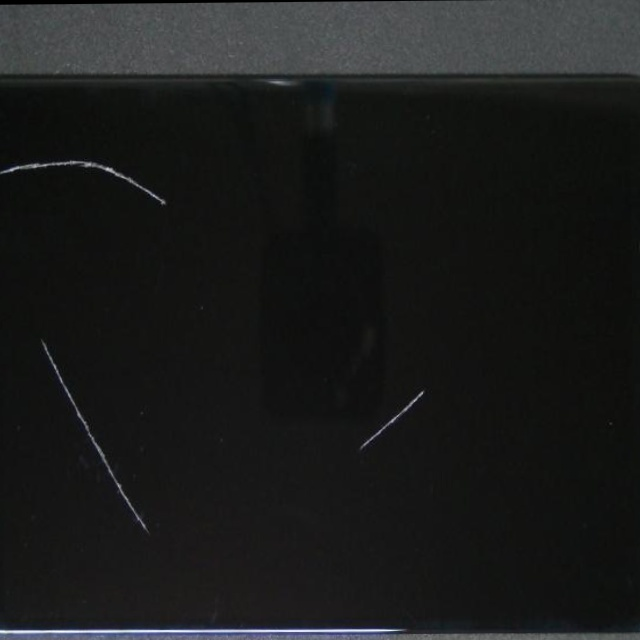scratch: (234, 147, 624, 581), (119, 378, 209, 640), (148, 85, 191, 242)
